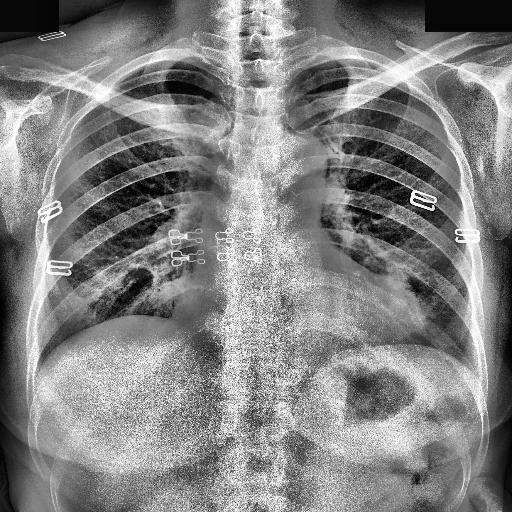0- Aortic enlargement: (255, 127, 326, 195)
13- Pulmonary fibrosis: (382, 262, 426, 332)
3- Cardiomegaly: (174, 281, 423, 357), (170, 270, 428, 342)
7- Lung Opacity: (382, 262, 426, 332), (134, 252, 178, 317)
